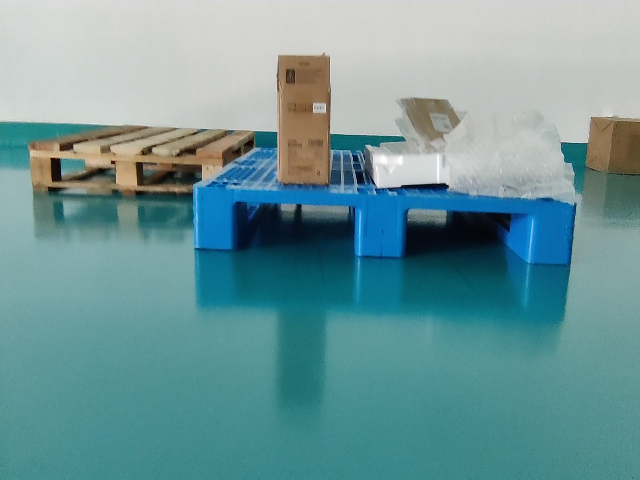block: (528, 198, 576, 267), (356, 195, 407, 257), (195, 186, 238, 249)
front: (193, 187, 575, 268)
hole pallet: (404, 210, 532, 262), (236, 202, 356, 255)
